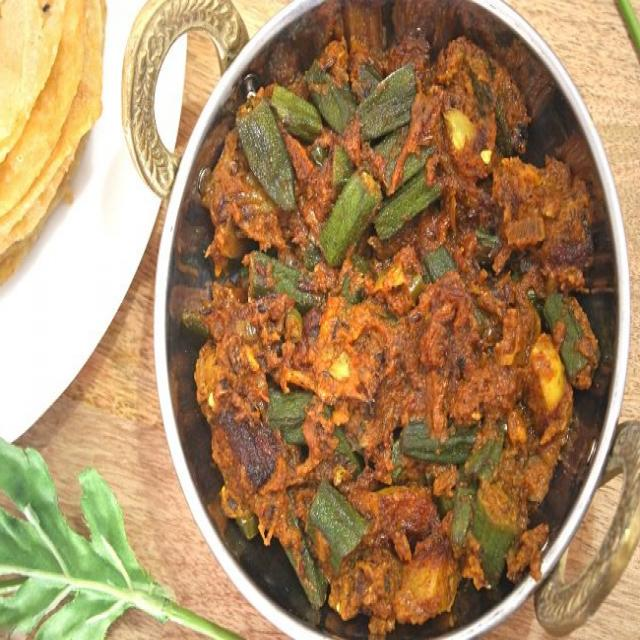Bhindi Masala: (188, 29, 598, 634)
